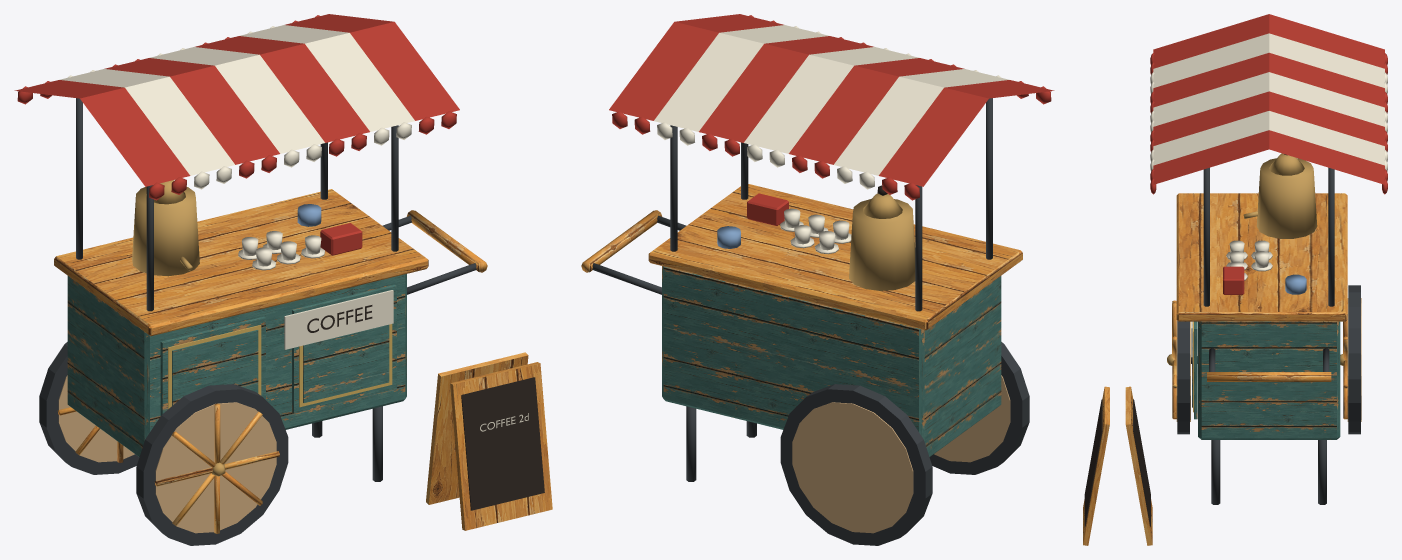
3 renders of one model, left to right at view 1: azimuth 30°, elevation 25°; view 2: azimuth 150°, elevation 25°; view 3: azimuth 270°, elevation 25°, orthographic. The views are drawn at different scales.
Parts seen in each view (by area): view 1: house_paint, seaside_timber, seaside_shutter; view 2: house_paint, seaside_shutter, seaside_timber; view 3: house_paint, seaside_timber, seaside_shutter.
Boxes of the visible parts, x1,y1,x2,y2 form: house_paint: [14, 14, 544, 545]; seaside_timber: [54, 189, 552, 533]; seaside_shutter: [67, 274, 406, 456]; house_paint: [592, 14, 1054, 545]; seaside_shutter: [662, 266, 1001, 456]; seaside_timber: [581, 184, 1022, 330]; house_paint: [1084, 14, 1387, 526]; seaside_timber: [1083, 193, 1348, 545]; seaside_shutter: [1192, 321, 1340, 439].
Bounding box in the file's own units: 2.13 × 2.34 × 1.71.
Materials: 3 (3 with a texture image).
